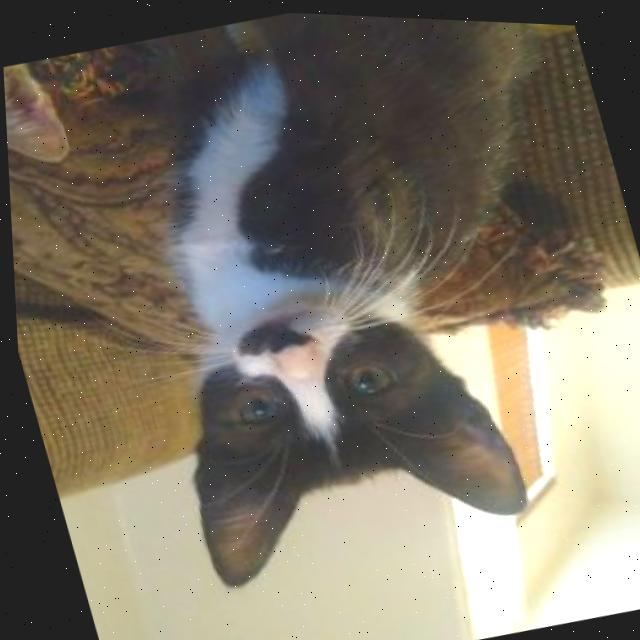Tuxedo: (56, 2, 640, 611)
